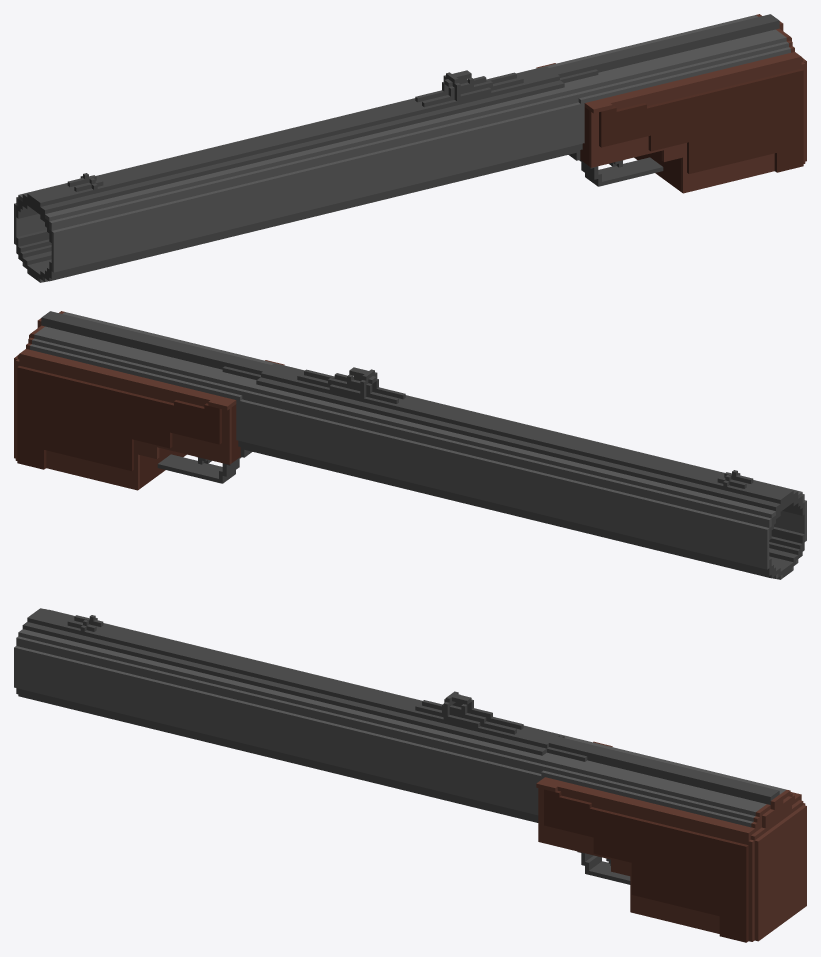
Rendered from Gun.obj.
The picture shows the model from 3 angles, top to bottom: view 1: azimuth 30°, elevation 25°; view 2: azimuth 150°, elevation 25°; view 3: azimuth 330°, elevation 25°; orthographic projection.
Size of the model in its own units: 19.6 by 3.7 by 2.6.
Materials: 1 (1 with a texture image).
